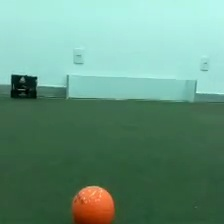ball: (67, 180, 117, 224)
goal: (63, 72, 198, 104)
robot: (9, 73, 39, 100)
